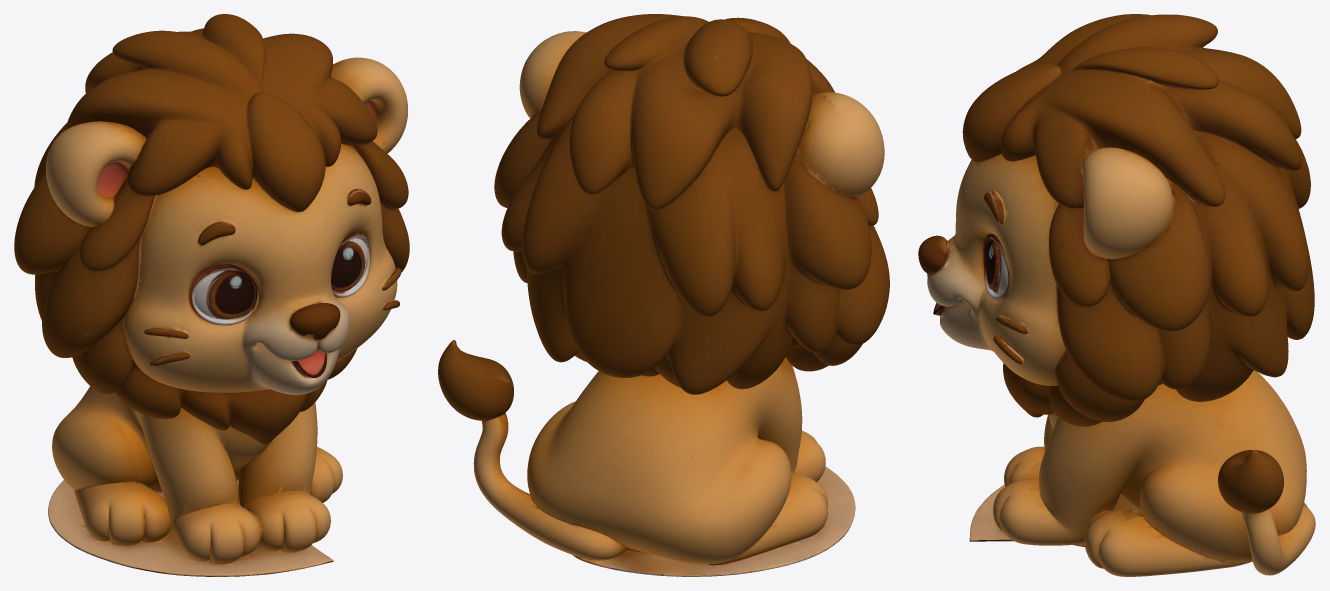
File: su-tu-con.glb
3 views of the same model, side by side, from view 1: azimuth 30°, elevation 25°; view 2: azimuth 150°, elevation 25°; view 3: azimuth 270°, elevation 25° (orthographic). The views are drawn at different scales.
Visible parts, largest first — view 1: texture_pbr_v128; view 2: texture_pbr_v128; view 3: texture_pbr_v128.
Part boxes in pixels (<box>): texture_pbr_v128: <box>14,14,409,576</box>; texture_pbr_v128: <box>438,14,889,576</box>; texture_pbr_v128: <box>918,14,1315,576</box>.
Size of the model in its own units: 0.8046 by 0.975 by 0.7169.
1 material, 1 textured.
